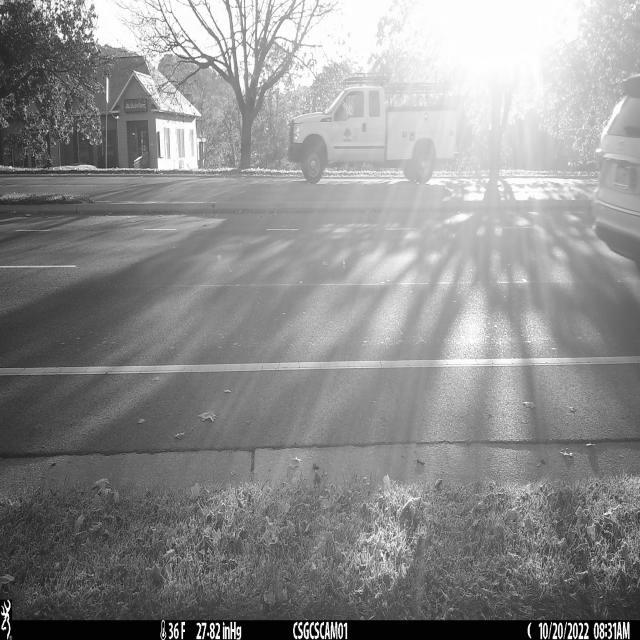Pickup- Utility: (289, 74, 468, 184)
